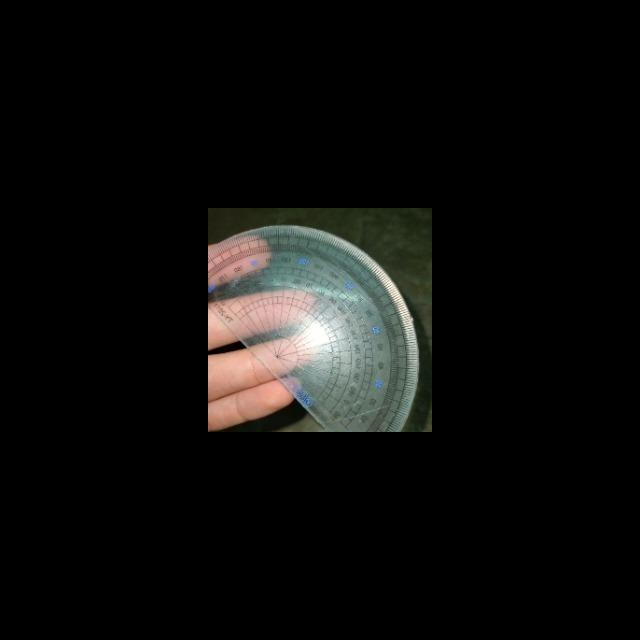plastic: (208, 225, 423, 431)
